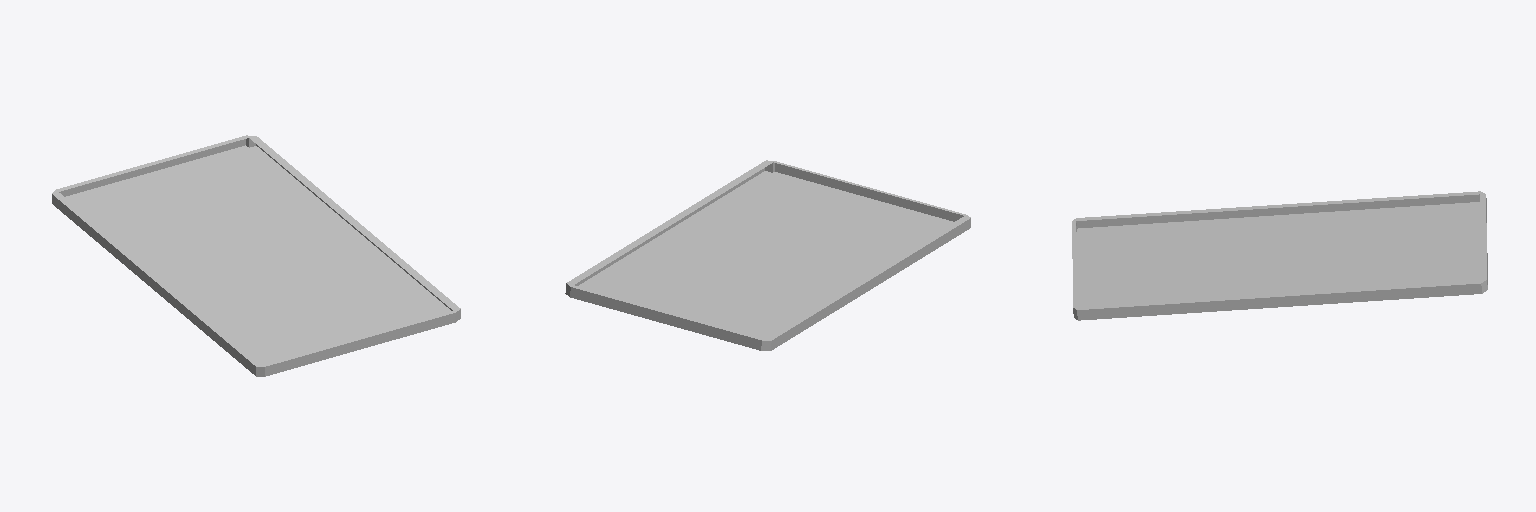
Rendered from tableF.obj.
The picture shows the model from 3 angles: view 1: azimuth 30°, elevation 25°; view 2: azimuth 150°, elevation 25°; view 3: azimuth 270°, elevation 25°; orthographic projection.
Parts seen in each view (by area): view 1: Cube; view 2: Cube; view 3: Cube.
Boxes of the visible parts, box(x1,y1,x2,y2) form: Cube: box(52, 135, 460, 376); Cube: box(565, 160, 970, 350); Cube: box(1072, 191, 1487, 320).
Bounding box in the file's own units: 154 × 31.03 × 267.